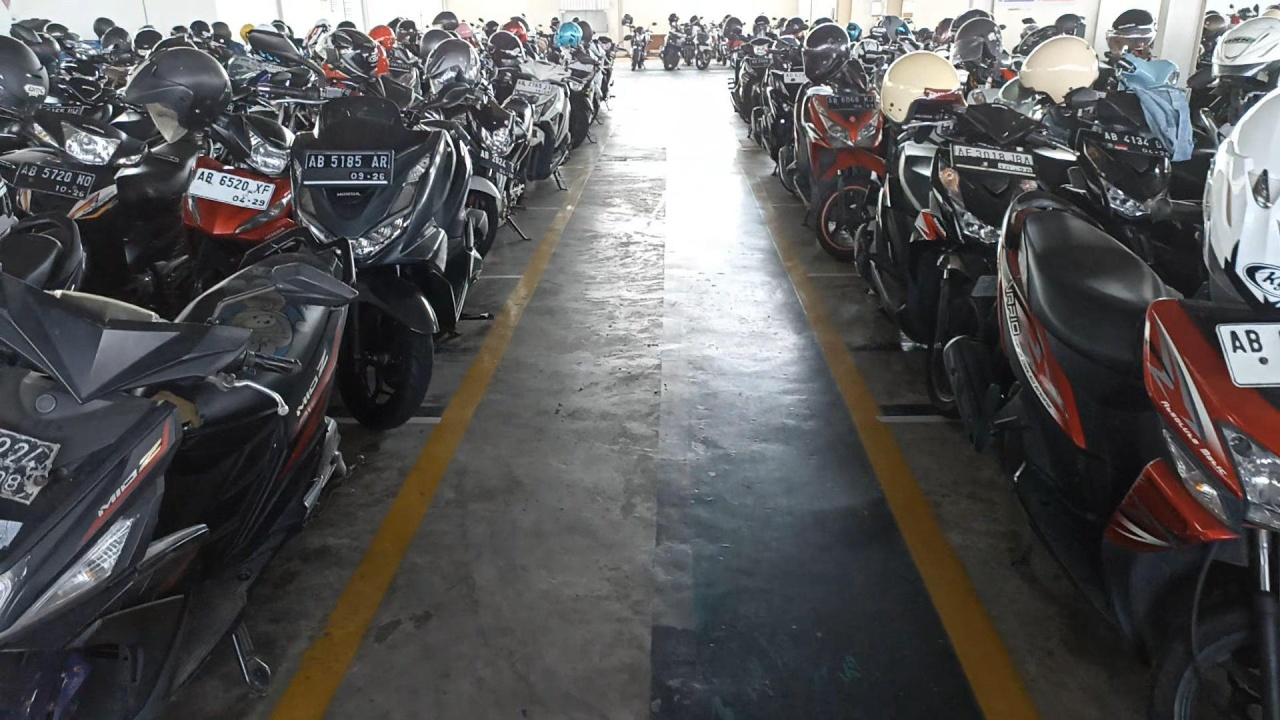plate: (188, 167, 275, 210), (14, 159, 95, 200), (303, 151, 391, 185), (952, 144, 1037, 178), (827, 96, 876, 110)
